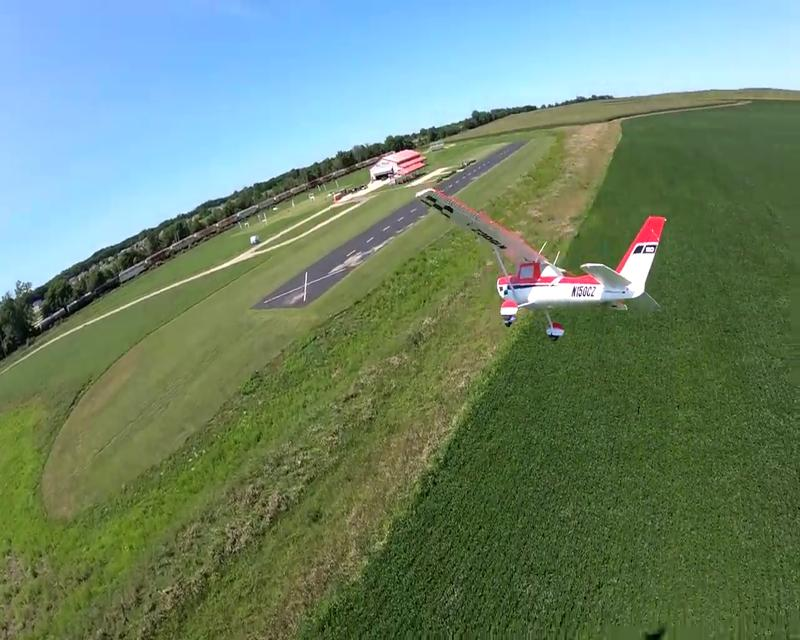UAV: (416, 188, 668, 342)
